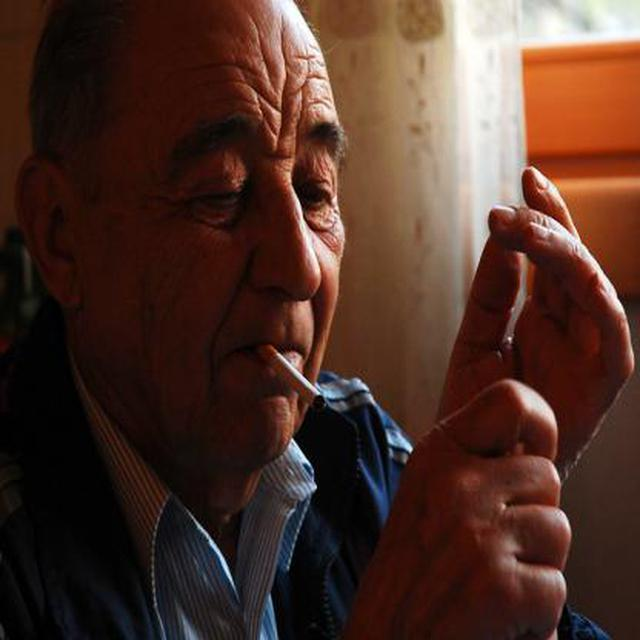smoking: (256, 337, 326, 412)
